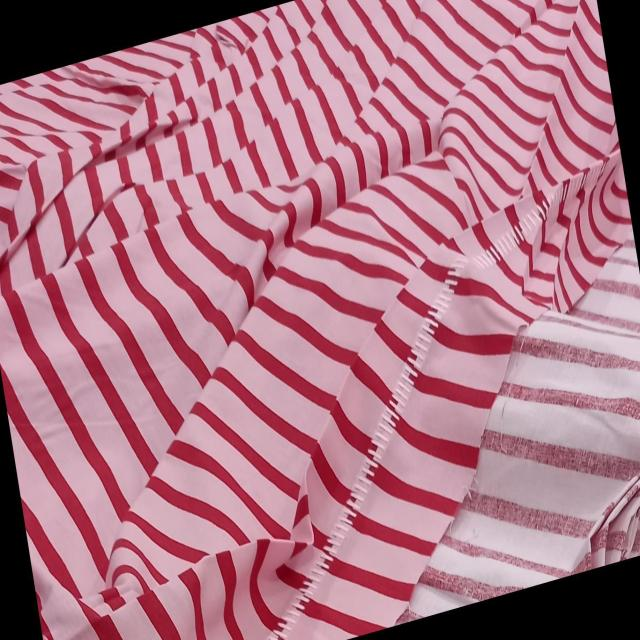gray stitch: (296, 306, 482, 557), (176, 568, 338, 640)
